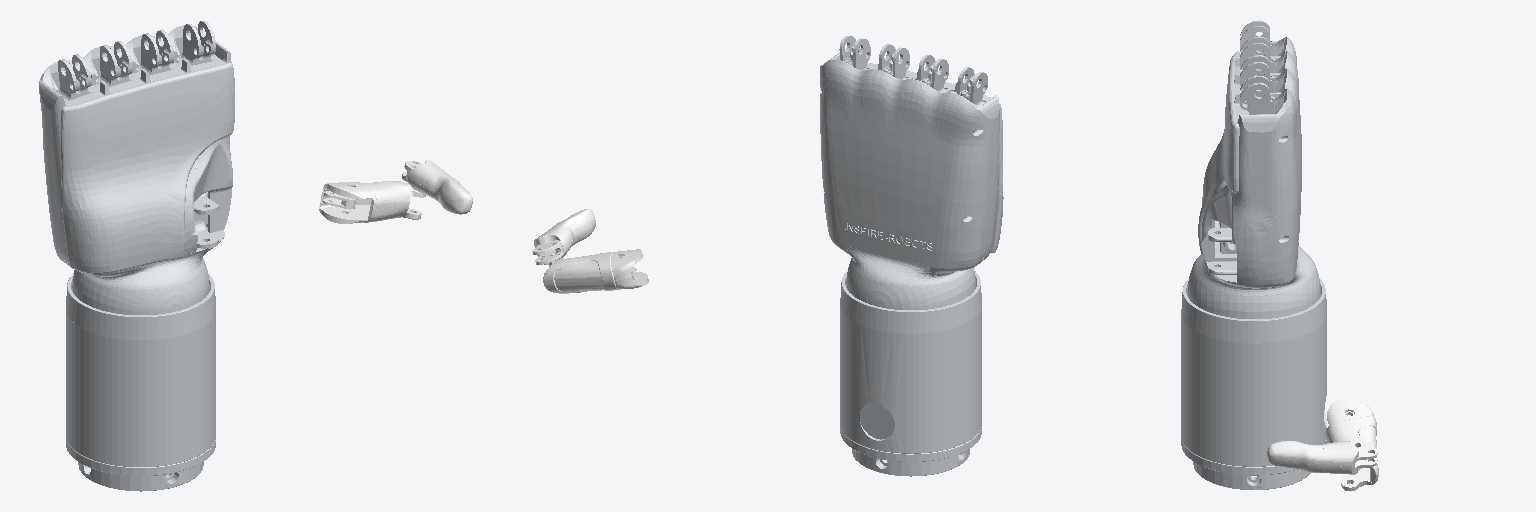
The robot description file, URDF, robot "wrist_base_link_1":
<?xml version="1.0" encoding="utf-8"?>
<robot
  name="wrist_base_link_1">
  <link
    name="base_link">
    <inertial>
      <origin
        xyz="-2.15561648839006E-08 -0.00191999281804056 0.0332314676154005"
        rpy="0 0 0" />
      <mass
        value="0.0695038586391028" />
      <inertia
        ixx="3.10214944966728E-05"
        ixy="6.95199575783958E-11"
        ixz="-1.97073434557092E-11"
        iyy="3.02480661265027E-05"
        iyz="-5.01501324812038E-07"
        izz="2.86515730078329E-05" />
    </inertial>
    <visual>
      <origin
        xyz="0 0 0"
        rpy="0 0 0" />
      <geometry>
        <mesh
          filename="package://wrist_base_link_1/meshes/base_link.STL" />
      </geometry>
      <material
        name="">
        <color
          rgba="0.894117647058823 0.913725490196078 0.929411764705882 1" />
      </material>
    </visual>
    <collision>
      <origin
        xyz="0 0 0"
        rpy="0 0 0" />
      <geometry>
        <mesh
          filename="package://wrist_base_link_1/meshes/base_link.STL" />
      </geometry>
    </collision>
  </link>
  <link
    name="Link_1">
    <inertial>
      <origin
        xyz="-0.0133419951922048 0.00575897820477875 -0.000150000894158946"
        rpy="0 0 0" />
      <mass
        value="0.00277890585457231" />
      <inertia
        ixx="1.09370485183287E-07"
        ixy="-1.48845839380445E-08"
        ixz="1.04480163452976E-14"
        iyy="1.49079739934158E-07"
        iyz="1.24013950499517E-15"
        izz="2.26417228011718E-07" />
    </inertial>
    <visual>
      <origin
        xyz="0 0 0"
        rpy="0 0 0" />
      <geometry>
        <mesh
          filename="package://wrist_base_link_1/meshes/Link_1.STL" />
      </geometry>
      <material
        name="">
        <color
          rgba="0 1 1 1" />
      </material>
    </visual>
    <collision>
      <origin
        xyz="0 0 0"
        rpy="0 0 0" />
      <geometry>
        <mesh
          filename="package://wrist_base_link_1/meshes/Link_1.STL" />
      </geometry>
    </collision>
  </link>
  <joint
    name="joint_1"
    type="revolute">
    <origin
      xyz="0.00015 0.00565 0.0782"
      rpy="1.5708 0 1.5708" />
    <parent
      link="base_link" />
    <child
      link="Link_1" />
    <axis
      xyz="-1 0 0" />
    <limit
      lower="-0.445"
      upper="0.445"
      effort="10"
      velocity="1" />
  </joint>
  <link
    name="Link_11">
    <inertial>
      <origin
        xyz="-0.00201547733411032 0.0510150201977158 -0.0137687123591791"
        rpy="0 0 0" />
      <mass
        value="0.141506121776802" />
      <inertia
        ixx="0.000109733477753849"
        ixy="2.40417904196419E-06"
        ixz="-1.74223281691751E-06"
        iyy="6.73457792880789E-05"
        iyz="1.87121289681864E-06"
        izz="7.13073727664869E-05" />
    </inertial>
    <visual>
      <origin
        xyz="0 0 0"
        rpy="0 0 0" />
      <geometry>
        <mesh
          filename="package://wrist_base_link_1/meshes/Link_11.STL" />
      </geometry>
      <material
        name="">
        <color
          rgba="0.894117647058823 0.913725490196078 0.929411764705882 1" />
      </material>
    </visual>
    <collision>
      <origin
        xyz="0 0 0"
        rpy="0 0 0" />
      <geometry>
        <mesh
          filename="package://wrist_base_link_1/meshes/Link_11.STL" />
      </geometry>
    </collision>
  </link>
  <joint
    name="joint_11"
    type="revolute">
    <origin
      xyz="-0.00565 0.0003 -0.01515"
      rpy="3.1416 0 -3.1416" />
    <parent
      link="Link_1" />
    <child
      link="Link_11" />
    <axis
      xyz="0 0 -1" />
    <limit
      lower="-0.3955"
      upper="0.386"
      effort="10"
      velocity="1" />
  </joint>
  <link
    name="R_thumb_proximal_base">
    <inertial>
      <origin
        xyz="-0.0048772 -0.010163 0.00044069"
        rpy="0 -3.1415926 0" />
      <mass
        value="0.0018869" />
      <inertia
        ixx="5.2002E-08"
        ixy="4.8353E-09"
        ixz="-6.6441E-09"
        iyy="6.7433E-08"
        iyz="5.4472E-10"
        izz="8.5319E-08" />
    </inertial>
    <visual>
      <origin
        xyz="0 0 0"
        rpy="0 0 0" />
      <geometry>
        <mesh
          filename="package://wrist_base_link_1/meshes/R_thumb_proximal_base.STL" />
      </geometry>
      <material
        name="">
        <color
          rgba="1 1 1 1" />
      </material>
    </visual>
    <collision>
      <origin
        xyz="0 0 0"
        rpy="0 0 0" />
      <geometry>
        <mesh
          filename="package://wrist_base_link_1/meshes/R_thumb_proximal_base.STL" />
      </geometry>
    </collision>
  </link>
  <joint
    name="R_thumb_MCP_joint1"
    type="revolute">
    <origin
      xyz="0.020450106 0.016955517 -0.071693589"
      rpy="4.7124 0 3.605907533" />
    <parent
      link="Link_11" />
    <child
      link="R_thumb_proximal_base" />
    <axis
      xyz="0 -1 0" />
    <limit
      lower="0"
      upper="1.1"
      effort="50"
      velocity="1" />
  </joint>
  <link
    name="R_thumb_proximal">
    <inertial>
      <origin
        xyz="-3.8592E-05 0.02533 -0.0017007"
        rpy="0 0 0" />
      <mass
        value="0.0066075" />
      <inertia
        ixx="2.786E-06"
        ixy="1.673E-10"
        ixz="-1.3436E-09"
        iyy="8.9422E-07"
        iyz="-2.1394E-07"
        izz="2.4097E-06" />
    </inertial>
    <visual>
      <origin
        xyz="0 0 0"
        rpy="0 0 0" />
      <geometry>
        <mesh
          filename="package://wrist_base_link_1/meshes/R_thumb_proximal.STL" />
      </geometry>
      <material
        name="">
        <color
          rgba="1 1 1 1" />
      </material>
    </visual>
    <collision>
      <origin
        xyz="0 0 0"
        rpy="0 0 0" />
      <geometry>
        <mesh
          filename="package://wrist_base_link_1/meshes/R_thumb_proximal.STL" />
      </geometry>
    </collision>
  </link>
  <joint
    name="R_thumb_MCP_joint2"
    type="revolute">
    <origin
      xyz="-0.0115 -0.011843 0"
      rpy="5.55298075 1.5708 0" />
    <parent
      link="R_thumb_proximal_base" />
    <child
      link="R_thumb_proximal" />
    <axis
      xyz="1 0 0" />
    <limit
      lower="0"
      upper="0.5"
      effort="50"
      velocity="1" />
  </joint>
  <link
    name="R_thumb_intermediate">
    <inertial>
      <origin
        xyz="2.8437E-07 0.0072526 -0.0064293"
        rpy="0 0 0" />
      <mass
        value="0.0037847" />
      <inertia
        ixx="4.6531E-07"
        ixy="-3.454E-12"
        ixz="3.4344E-12"
        iyy="2.6858E-07"
        iyz="-6.414E-08"
        izz="4.2517E-07" />
    </inertial>
    <visual>
      <origin
        xyz="0 0 0"
        rpy="0 0 0" />
      <geometry>
        <mesh
          filename="package://wrist_base_link_1/meshes/R_thumb_intermediate.STL" />
      </geometry>
      <material
        name="">
        <color
          rgba="1 1 1 1" />
      </material>
    </visual>
    <collision>
      <origin
        xyz="0 0 0"
        rpy="0 0 0" />
      <geometry>
        <mesh
          filename="package://wrist_base_link_1/meshes/R_thumb_intermediate.STL" />
      </geometry>
    </collision>
  </link>
  <joint
    name="R_thumb_PIP_joint"
    type="revolute">
    <origin
      xyz="0 0.055863 0.0039241"
      rpy="-0.038299 0 0" />
    <parent
      link="R_thumb_proximal" />
    <child
      link="R_thumb_intermediate" />
    <axis
      xyz="1 0 0" />
    <limit
      lower="0"
      upper="1"
      effort="50"
      velocity="1" />
      <mimic 
        joint="R_thumb_MCP_joint2"
        multiplier="0.6"
        offset="0" />
  </joint>
  <link
    name="R_thumb_distal">
    <inertial>
      <origin
        xyz="-3.3054E-06 0.010511 -0.00057863"
        rpy="0 0 0" />
      <mass
        value="0.0033441" />
      <inertia
        ixx="2.0026E-07"
        ixy="-1.4303E-10"
        ixz="-5.6945E-11"
        iyy="8.711E-08"
        iyz="-2.4416E-08"
        izz="1.8974E-07" />
    </inertial>
    <visual>
      <origin
        xyz="0 0 0"
        rpy="0 0 0" />
      <geometry>
        <mesh
          filename="package://wrist_base_link_1/meshes/R_thumb_distal.STL" />
      </geometry>
      <material
        name="">
        <color
          rgba="1 1 1 1" />
      </material>
    </visual>
    <collision>
      <origin
        xyz="0 0 0"
        rpy="0 0 0" />
      <geometry>
        <mesh
          filename="package://wrist_base_link_1/meshes/R_thumb_distal.STL" />
      </geometry>
    </collision>
  </link>
  <joint
    name="R_thumb_DIP_joint"
    type="revolute">
    <origin
      xyz="0 0.022558 -0.0020717"
      rpy="-0.011642 0 0" />
    <parent
      link="R_thumb_intermediate" />
    <child
      link="R_thumb_distal" />
    <axis
      xyz="1 0 0" />
    <limit
      lower="0"
      upper="1.2"
      effort="50"
      velocity="1" />
      <mimic 
        joint="R_thumb_MCP_joint2"
        multiplier="0.8"
        offset="0" />
  </joint>
  <link
    name="R_index_proximal">
    <inertial>
      <origin
        xyz="0.0099008 0.011884 0.0016958"
        rpy="0 0 0" />
      <mass
        value="0.0042403" />
      <inertia
        ixx="6.9398E-07"
        ixy="-4.4846E-12"
        ixz="-3.0248E-12"
        iyy="2.3039E-07"
        iyz="-9.1779E-08"
        izz="6.434E-07" />
    </inertial>
    <visual>
      <origin
        xyz="0 0 0"
        rpy="0 0 0" />
      <geometry>
        <mesh
          filename="package://wrist_base_link_1/meshes/R_index_proximal.STL" />
      </geometry>
      <material
        name="">
        <color
          rgba="1 1 1 1" />
      </material>
    </visual>
    <collision>
      <origin
        xyz="0 0 0"
        rpy="0 0 0" />
      <geometry>
        <mesh
          filename="package://wrist_base_link_1/meshes/R_index_proximal.STL" />
      </geometry>
    </collision>
  </link>
  <joint
    name="R_index_MCP_joint"
    type="revolute">
    <origin
      xyz="0.016376106 -0.000284483 -0.137082589"
      rpy="4.4684 -0.034907 0" />
    <parent
      link="Link_11" />
    <child
      link="R_index_proximal" />
    <axis
      xyz="1 0 0" />
    <limit
      lower="0"
      upper="1.7"
      effort="50"
      velocity="1" />
  </joint>
  <link
    name="R_index_distal">
    <inertial>
      <origin
        xyz="0.0083258 0.019591 0.0019565"
        rpy="0 0 0" />
      <mass
        value="0.0045683" />
      <inertia
        ixx="7.8179E-07"
        ixy="9.0022E-13"
        ixz="5.6729E-13"
        iyy="1.5635E-07"
        iyz="-2.1007E-07"
        izz="7.0084E-07" />
    </inertial>
    <visual>
      <origin
        xyz="0 0 0"
        rpy="0 0 0" />
      <geometry>
        <mesh
          filename="package://wrist_base_link_1/meshes/R_index_distal.STL" />
      </geometry>
      <material
        name="">
        <color
          rgba="1 1 1 1" />
      </material>
    </visual>
    <collision>
      <origin
        xyz="0 0 0"
        rpy="0 0 0" />
      <geometry>
        <mesh
          filename="package://wrist_base_link_1/meshes/R_index_distal.STL" />
      </geometry>
    </collision>
  </link>
  <joint
    name="R_index_DIP_joint"
    type="revolute">
    <origin
      xyz="0.001575 0.030445 0.010275"
      rpy="0.044288 0 0" />
    <parent
      link="R_index_proximal" />
    <child
      link="R_index_distal" />
    <axis
      xyz="1 0 0" />
    <limit
      lower="0"
      upper="1.6"
      effort="50"
      velocity="1" />
      <mimic 
        joint="R_index_MCP_joint"
        multiplier="1"
        offset="0" />
  </joint>
  <link
    name="R_middle_proximal">
    <inertial>
      <origin
        xyz="0.008065 0.011884 0.0016958"
        rpy="0 0 0" />
      <mass
        value="0.0042403" />
      <inertia
        ixx="6.9397E-07"
        ixy="-6.0276E-12"
        ixz="-3.3971E-12"
        iyy="2.3039E-07"
        iyz="-9.1777E-08"
        izz="6.4339E-07" />
    </inertial>
    <visual>
      <origin
        xyz="0 0 0"
        rpy="0 0 0" />
      <geometry>
        <mesh
          filename="package://wrist_base_link_1/meshes/R_middle_proximal.STL" />
      </geometry>
      <material
        name="">
        <color
          rgba="1 1 1 1" />
      </material>
    </visual>
    <collision>
      <origin
        xyz="0 0 0"
        rpy="0 0 0" />
      <geometry>
        <mesh
          filename="package://wrist_base_link_1/meshes/R_middle_proximal.STL" />
      </geometry>
    </collision>
  </link>
  <joint
    name="R_middle_MCP_joint"
    type="revolute">
    <origin
      xyz="-0.001114894 -0.000284483 -0.137099589"
      rpy="4.4624 0 0" />
    <parent
      link="Link_11" />
    <child
      link="R_middle_proximal" />
    <axis
      xyz="1 0 0" />
    <limit
      lower="0"
      upper="1.68"
      effort="50"
      velocity="1" />
  </joint>
  <link
    name="R_middle_distal">
    <inertial>
      <origin
        xyz="0.0063978 0.020807 0.0018039"
        rpy="0 0 0" />
      <mass
        value="0.0050396" />
      <inertia
        ixx="9.8384E-07"
        ixy="5.3828E-12"
        ixz="3.4908E-12"
        iyy="1.7328E-07"
        iyz="-2.5594E-07"
        izz="8.914E-07" />
    </inertial>
    <visual>
      <origin
        xyz="0 0 0"
        rpy="0 0 0" />
      <geometry>
        <mesh
          filename="package://wrist_base_link_1/meshes/R_middle_distal.STL" />
      </geometry>
      <material
        name="">
        <color
          rgba="1 1 1 1" />
      </material>
    </visual>
    <collision>
      <origin
        xyz="0 0 0"
        rpy="0 0 0" />
      <geometry>
        <mesh
          filename="package://wrist_base_link_1/meshes/R_middle_distal.STL" />
      </geometry>
    </collision>
  </link>
  <joint
    name="R_middle_DIP_joint"
    type="revolute">
    <origin
      xyz="0.0016673 0.030445 0.010275"
      rpy="0.071413 0 0" />
    <parent
      link="R_middle_proximal" />
    <child
      link="R_middle_distal" />
    <axis
      xyz="1 0 0" />
    <limit
      lower="0"
      upper="1.6"
      effort="50"
      velocity="1" />
      <mimic 
        joint="R_middle_MCP_joint"
        multiplier="1"
        offset="0" />
  </joint>
  <link
    name="R_ring_proximal">
    <inertial>
      <origin
        xyz="0.0080207 0.011884 0.0016959"
        rpy="0 0 0" />
      <mass
        value="0.0042403" />
      <inertia
        ixx="6.9397E-07"
        ixy="-6.088E-12"
        ixz="-3.1846E-12"
        iyy="2.3039E-07"
        iyz="-9.1776E-08"
        izz="6.4339E-07" />
    </inertial>
    <visual>
      <origin
        xyz="0 0 0"
        rpy="0 0 0" />
      <geometry>
        <mesh
          filename="package://wrist_base_link_1/meshes/R_ring_proximal.STL" />
      </geometry>
      <material
        name="">
        <color
          rgba="1 1 1 1" />
      </material>
    </visual>
    <collision>
      <origin
        xyz="0 0 0"
        rpy="0 0 0" />
      <geometry>
        <mesh
          filename="package://wrist_base_link_1/meshes/R_ring_proximal.STL" />
      </geometry>
    </collision>
  </link>
  <joint
    name="R_ring_MCP_joint"
    type="revolute">
    <origin
      xyz="-0.020288894 -0.000284483 -0.136176589"
      rpy="4.4624 0.05236 0" />
    <parent
      link="Link_11" />
    <child
      link="R_ring_proximal" />
    <axis
      xyz="1 0 0" />
    <limit
      lower="0"
      upper="1.7"
      effort="50"
      velocity="1" />
  </joint>
  <link
    name="R_ring_distal">
    <inertial>
      <origin
        xyz="0.0080209 0.019591 0.0019565"
        rpy="0 0 0" />
      <mass
        value="0.0045683" />
      <inertia
        ixx="7.8177E-07"
        ixy="4.448E-13"
        ixz="7.2441E-13"
        iyy="1.5635E-07"
        iyz="-2.1007E-07"
        izz="7.0082E-07" />
    </inertial>
    <visual>
      <origin
        xyz="0 0 0"
        rpy="0 0 0" />
      <geometry>
        <mesh
          filename="package://wrist_base_link_1/meshes/R_ring_distal.STL" />
      </geometry>
      <material
        name="">
        <color
          rgba="1 1 1 1" />
      </material>
    </visual>
    <collision>
      <origin
        xyz="0 0 0"
        rpy="0 0 0" />
      <geometry>
        <mesh
          filename="package://wrist_base_link_1/meshes/R_ring_distal.STL" />
      </geometry>
    </collision>
  </link>
  <joint
    name="R_ring_DIP_joint"
    type="revolute">
    <origin
      xyz="0 0.030445 0.010275"
      rpy="0.039748 0 0" />
    <parent
      link="R_ring_proximal" />
    <child
      link="R_ring_distal" />
    <axis
      xyz="1 0 0" />
    <limit
      lower="0"
      upper="1.6"
      effort="50"
      velocity="1" />
      <mimic 
        joint="R_ring_MCP_joint"
        multiplier="1"
        offset="0" />
  </joint>
  <link
    name="R_pinky_proximal">
    <inertial>
      <origin
        xyz="0.0078887 0.011884 0.0016959"
        rpy="0 0 0" />
      <mass
        value="0.0042403" />
      <inertia
        ixx="6.9397E-07"
        ixy="-6.2993E-12"
        ixz="-3.3535E-12"
        iyy="2.3039E-07"
        iyz="-9.1776E-08"
        izz="6.4339E-07" />
    </inertial>
    <visual>
      <origin
        xyz="0 0 0"
        rpy="0 0 0" />
      <geometry>
        <mesh
          filename="package://wrist_base_link_1/meshes/R_pinky_proximal.STL" />
      </geometry>
      <material
        name="">
        <color
          rgba="1 1 1 1" />
      </material>
    </visual>
    <collision>
      <origin
        xyz="0 0 0"
        rpy="0 0 0" />
      <geometry>
        <mesh
          filename="package://wrist_base_link_1/meshes/R_pinky_proximal.STL" />
      </geometry>
    </collision>
  </link>
  <joint
    name="R_pinky_MCP_joint"
    type="revolute">
    <origin
      xyz="-0.039300894 -0.000028483 -0.134262589"
      rpy="4.4624 0.10472 0" />
    <parent
      link="Link_11" />
    <child
      link="R_pinky_proximal" />
    <axis
      xyz="1 0 0" />
    <limit
      lower="0"
      upper="1.7"
      effort="50"
      velocity="1" />
  </joint>
  <link
    name="R_pinky_distal">
    <inertial>
      <origin
        xyz="0.0078857 0.016239 0.0022243"
        rpy="0 0 0" />
      <mass
        value="0.0035996" />
      <inertia
        ixx="4.4867E-07"
        ixy="6.675E-11"
        ixz="-1.9009E-11"
        iyy="1.2248E-07"
        iyz="-1.3511E-07"
        izz="3.8689E-07" />
    </inertial>
    <visual>
      <origin
        xyz="0 0 0"
        rpy="0 0 0" />
      <geometry>
        <mesh
          filename="package://wrist_base_link_1/meshes/R_pinky_distal.STL" />
      </geometry>
      <material
        name="">
        <color
          rgba="1 1 1 1" />
      </material>
    </visual>
    <collision>
      <origin
        xyz="0 0 0"
        rpy="0 0 0" />
      <geometry>
        <mesh
          filename="package://wrist_base_link_1/meshes/R_pinky_distal.STL" />
      </geometry>
    </collision>
  </link>
  <joint
    name="R_pinky_DIP_joint"
    type="revolute">
    <origin
      xyz="0 0.030445 0.010275"
      rpy="-0.037691 0 0" />
    <parent
      link="R_pinky_proximal" />
    <child
      link="R_pinky_distal" />
    <axis
      xyz="1 0 0" />
    <limit
      lower="0"
      upper="1.6"
      effort="50"
      velocity="1" />
      <mimic 
        joint="R_pinky_MCP_joint"
        multiplier="1"
        offset="0" />
  </joint>
</robot>

--- Render facts (derived) ---
3 views of the same robot in one strip: view 1: azimuth 30°, elevation 25°; view 2: azimuth 150°, elevation 25°; view 3: azimuth 270°, elevation 25° (orthographic).
Robot: wrist_base_link_1 — 15 links, 14 joints (14 revolute); root link base_link; default pose: all joints at 0.
Links seen in each view (by area): view 1: Link_11, base_link, R_pinky_proximal, R_pinky_distal; view 2: Link_11, base_link, R_pinky_proximal, R_pinky_distal; view 3: Link_11, base_link, R_pinky_distal, R_pinky_proximal.
Link boxes in pixels (x1,y1,x2,y2): Link_11: (39, 21, 234, 314); base_link: (66, 273, 215, 491); R_pinky_proximal: (319, 181, 425, 223); R_pinky_distal: (402, 160, 472, 214); Link_11: (820, 36, 1003, 309); base_link: (840, 271, 981, 476); R_pinky_proximal: (543, 249, 648, 293); R_pinky_distal: (532, 209, 595, 264); Link_11: (1188, 20, 1320, 318); base_link: (1181, 278, 1326, 489); R_pinky_distal: (1267, 441, 1377, 474); R_pinky_proximal: (1326, 398, 1378, 491).
Bounding box of the posed robot: 0.2026 × 0.0811 × 0.1877 m (x, y, z).
Meshes: 15 distinct files referenced, 5 mesh visuals loaded (5 binary STL); not drawn: 10 (reference not matched to a file when rendering).